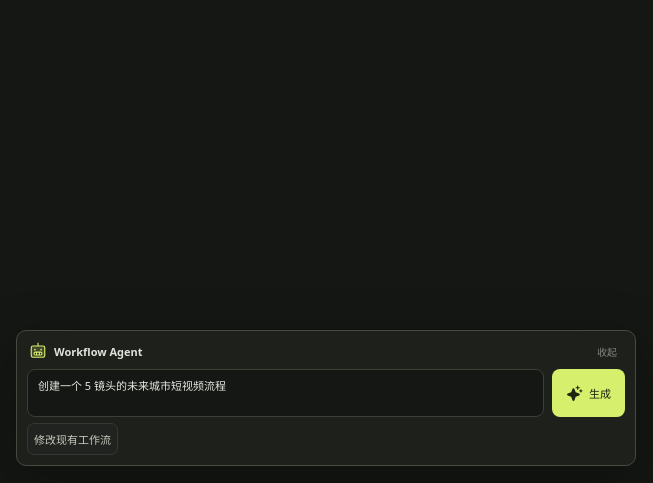
Test: AgentComposer › cancel clears preview
Click the button "生成". click: (588, 393)
box: [552,369,625,417]
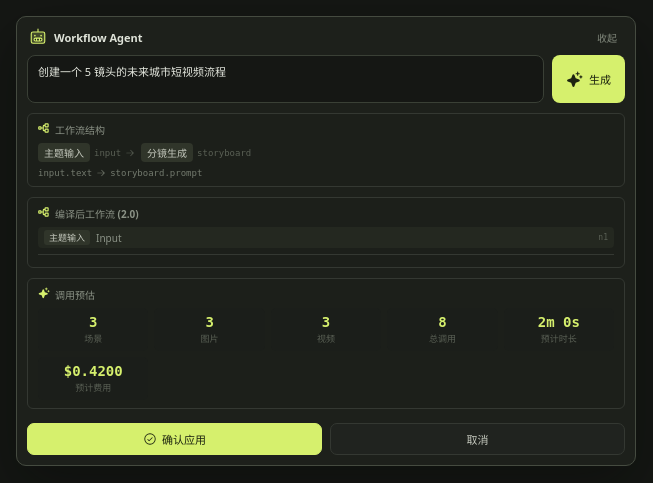
Expected: the button "确认应用" is shown, [27,423,322,455]
Click the button "取消". click: (478, 439)
box: [330,423,625,455]
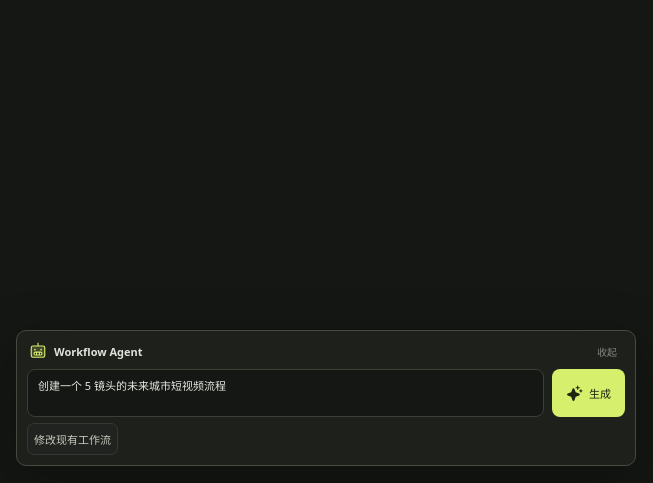
Expected: the button "确认应用" is gone
